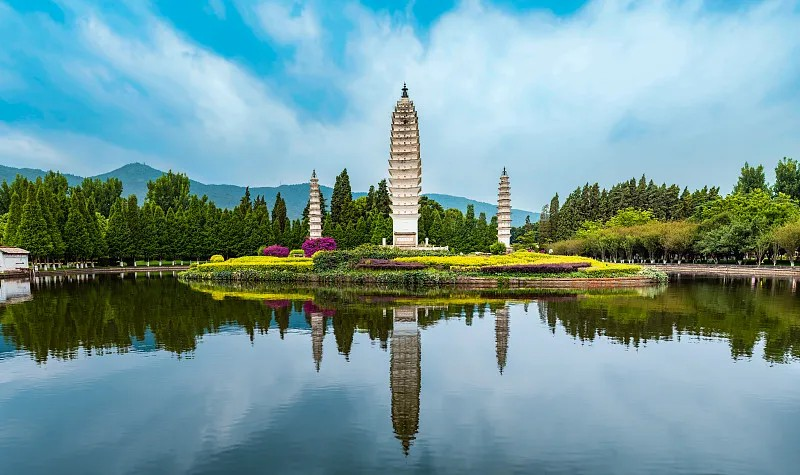ThreePagoda: (388, 82, 423, 246)
